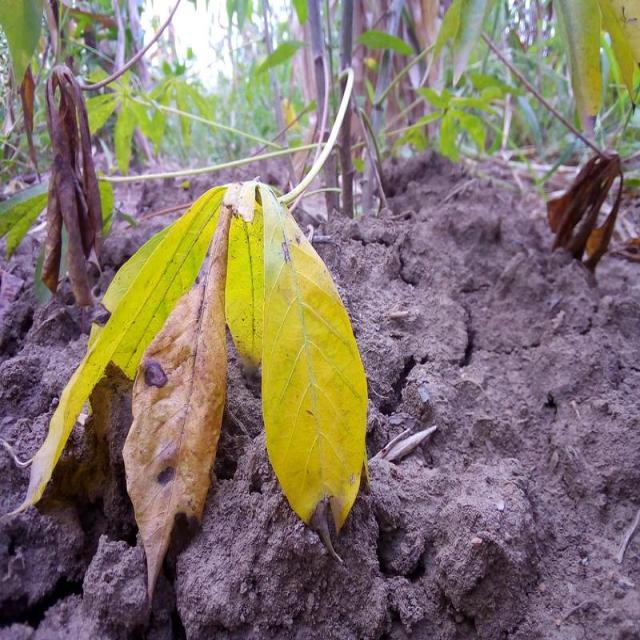cassava leaf: (8, 67, 370, 604), (122, 186, 238, 608), (260, 205, 370, 561)
